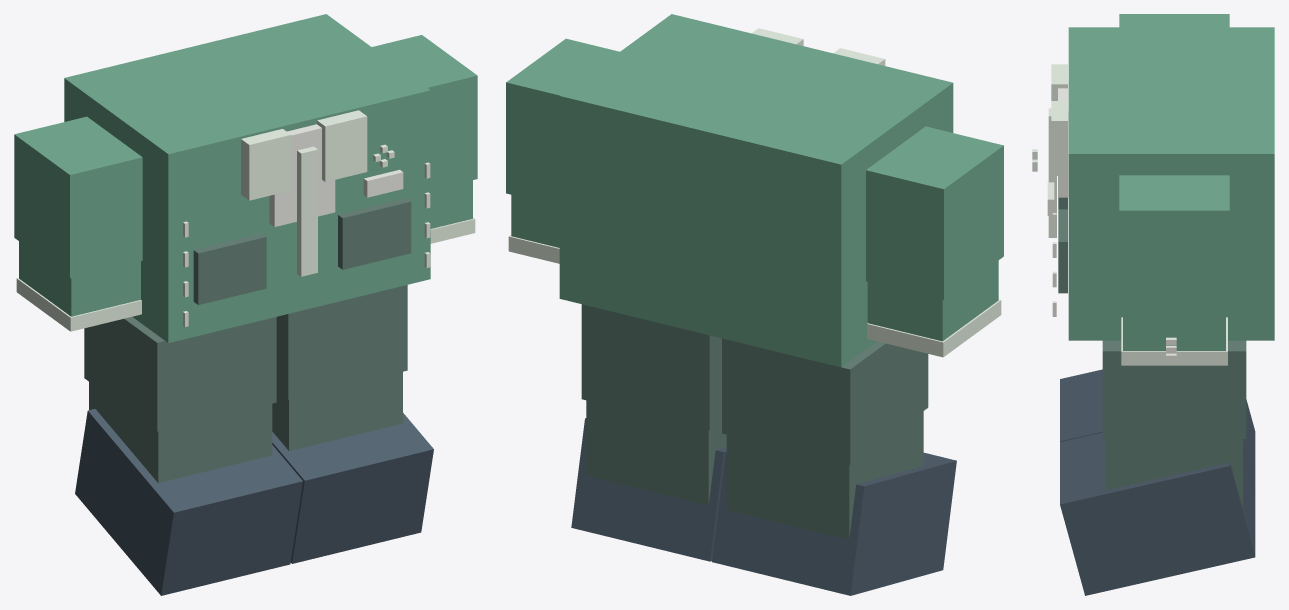
Rendered from business-emerald.glb.
3 views of the same model, side by side, from view 1: azimuth 30°, elevation 25°; view 2: azimuth 150°, elevation 25°; view 3: azimuth 270°, elevation 25° (orthographic). The views are drawn at different scales.
Parts seen in each view (by area): view 1: jacket, shoe-Right, upper-sleeve-Right, trouser-Right, shoe-Left, trouser-Left, lower-trouser-Right, upper-sleeve-Left, lower-trouser-Left, lower-sleeve-Right, pocket--1, pocket-1 (+8 smaller); view 2: jacket, upper-sleeve-Right, trouser-Right, shoe-Right, trouser-Left, lower-trouser-Right, lower-trouser-Left, upper-sleeve-Left, shoe-Left, lower-sleeve-Right, cuff-Right, lower-sleeve-Left (+1 smaller); view 3: jacket, shoe-Left, upper-sleeve-Left, trouser-Left, lower-trouser-Left, lower-sleeve-Left, shoe-Right, cuff-Left, upper-sleeve-Right, lapel-1, pocket-1, tie (+2 smaller).
Boxes of the visible parts, x1,y1,x2,y2 form: jacket: (64, 14, 430, 342); shoe-Right: (75, 409, 302, 595); upper-sleeve-Right: (14, 116, 142, 278); trouser-Right: (84, 317, 276, 431); shoe-Left: (272, 413, 433, 563); trouser-Left: (276, 285, 407, 399); lower-trouser-Right: (89, 382, 272, 482); upper-sleeve-Left: (372, 35, 477, 190); lower-trouser-Left: (272, 372, 402, 451); lower-sleeve-Right: (19, 241, 140, 316); pocket--1: (193, 233, 266, 304); pocket-1: (338, 198, 411, 269); jacket: (559, 14, 953, 367); upper-sleeve-Right: (866, 126, 1003, 300); trouser-Right: (722, 338, 928, 464); shoe-Right: (712, 452, 956, 595); trouser-Left: (581, 304, 721, 430); lower-trouser-Right: (726, 411, 923, 539); lower-trouser-Left: (586, 400, 726, 505); upper-sleeve-Left: (506, 38, 619, 206); shoe-Left: (571, 418, 726, 561); lower-sleeve-Right: (867, 260, 998, 341); cuff-Right: (867, 299, 1001, 357); lower-sleeve-Left: (511, 195, 559, 247); jacket: (1068, 27, 1274, 340); shoe-Left: (1060, 432, 1255, 595); upper-sleeve-Left: (1119, 175, 1229, 312); trouser-Left: (1102, 340, 1246, 438); lower-trouser-Left: (1106, 439, 1242, 507); lower-sleeve-Left: (1123, 312, 1225, 350); shoe-Right: (1060, 369, 1255, 493); cuff-Left: (1121, 317, 1227, 365); upper-sleeve-Right: (1119, 14, 1229, 27); lapel-1: (1051, 101, 1067, 175); pocket-1: (1058, 209, 1067, 293); tie: (1048, 108, 1056, 237).
Size of the model in its own units: 1.08 by 1.13 by 0.559.
